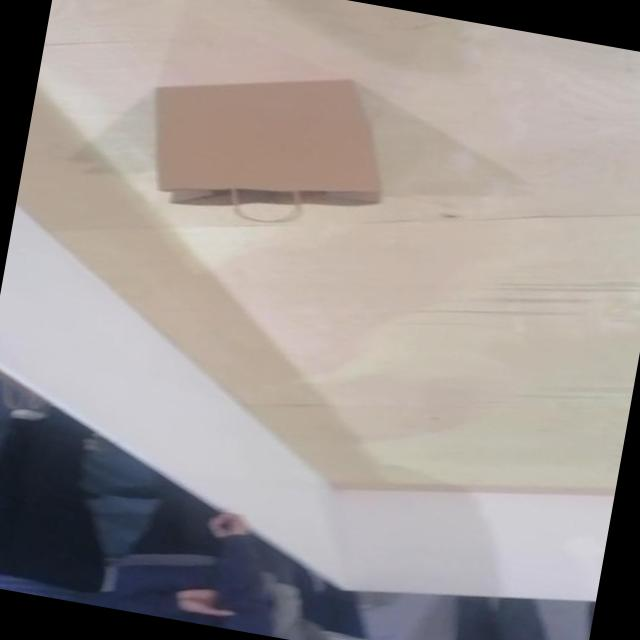Kardus: (134, 46, 402, 246)
